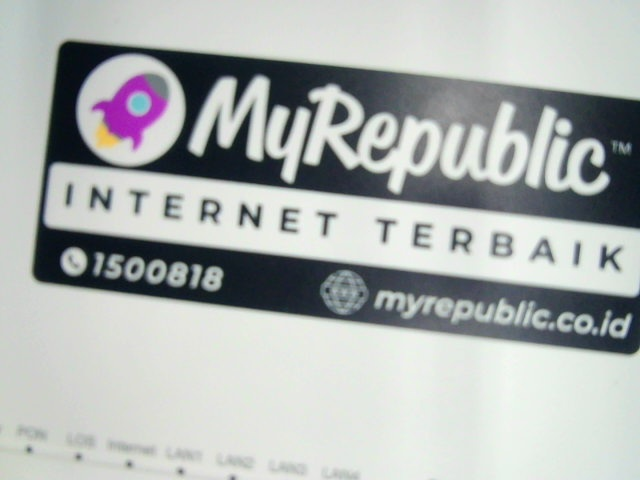BD_MyRepublic: (28, 35, 638, 359)
